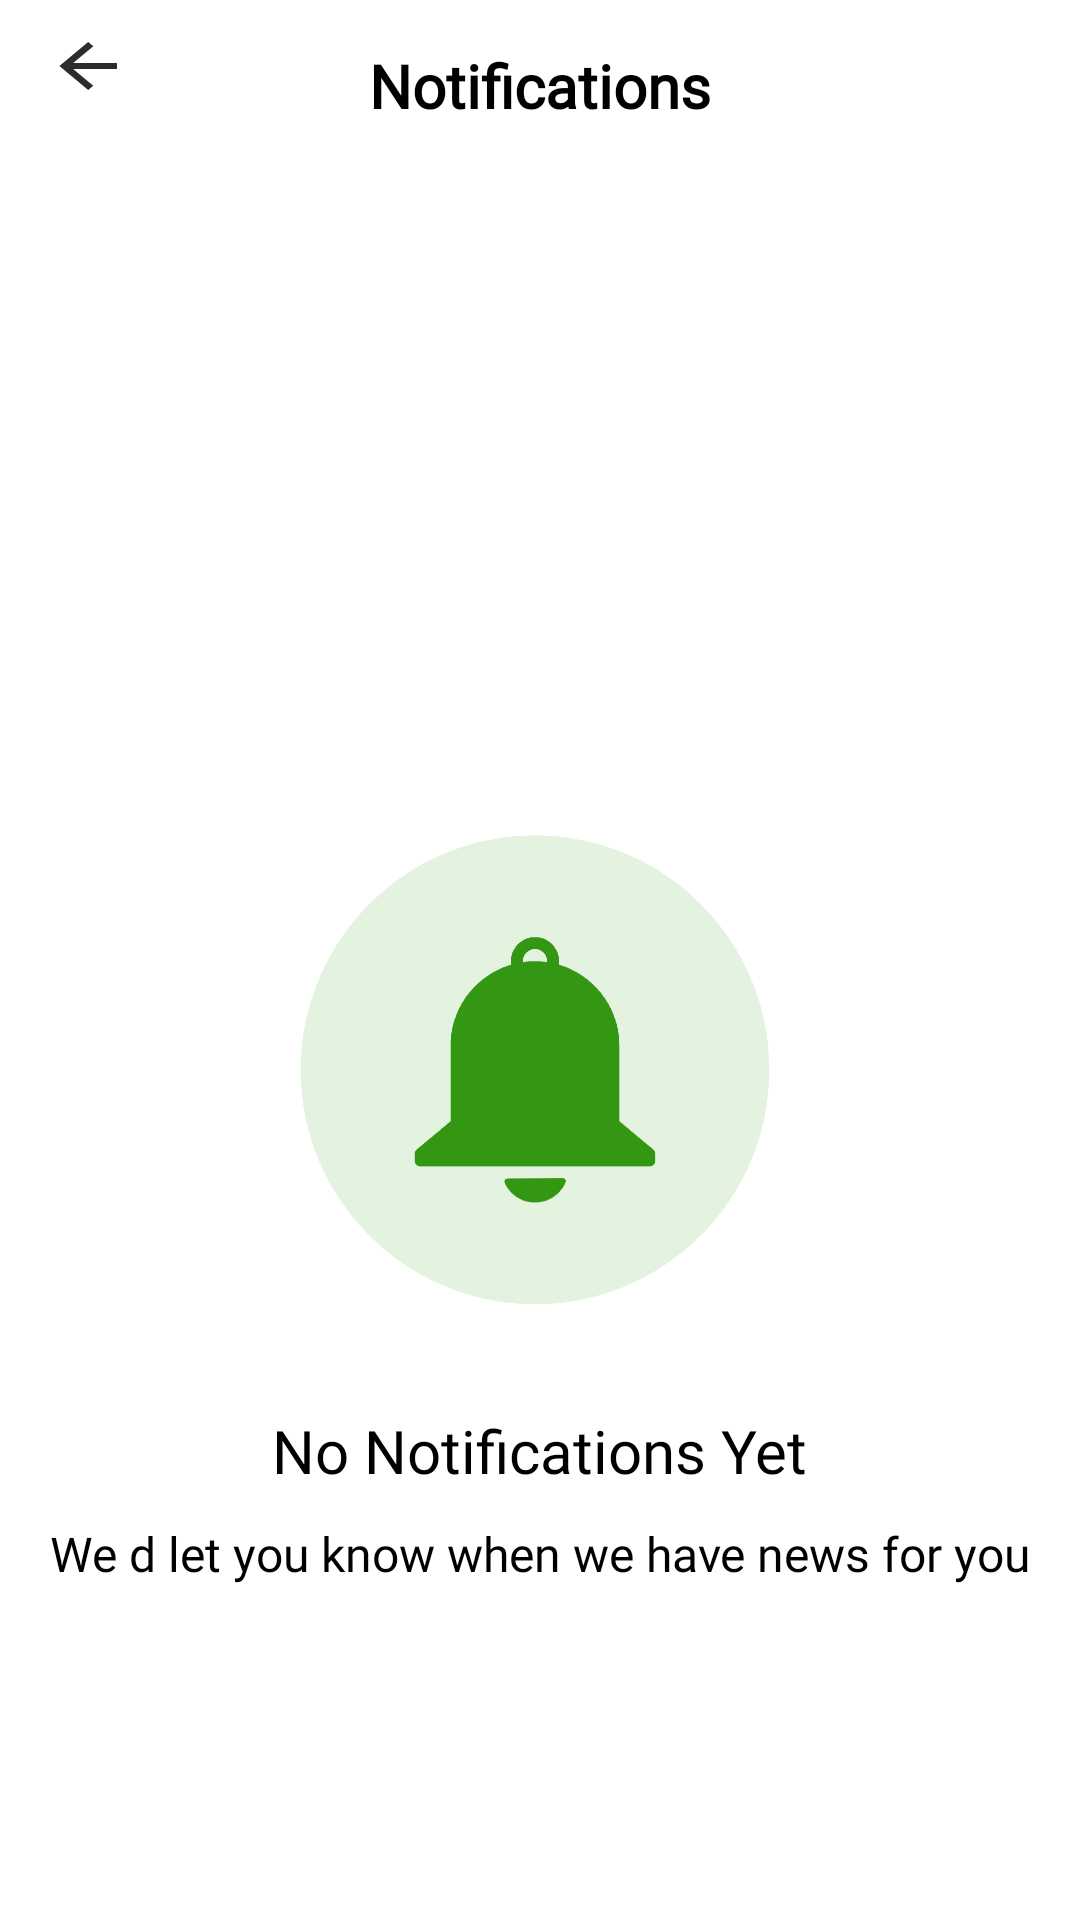

Icon click points for this 1080×1920 phone screenshot, format (x,y):
arrow back: (88,66)
